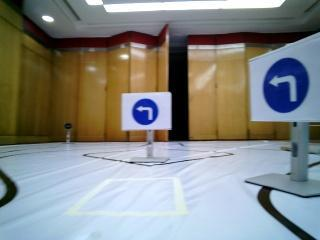left: (252, 59, 320, 123), (123, 95, 170, 125)
